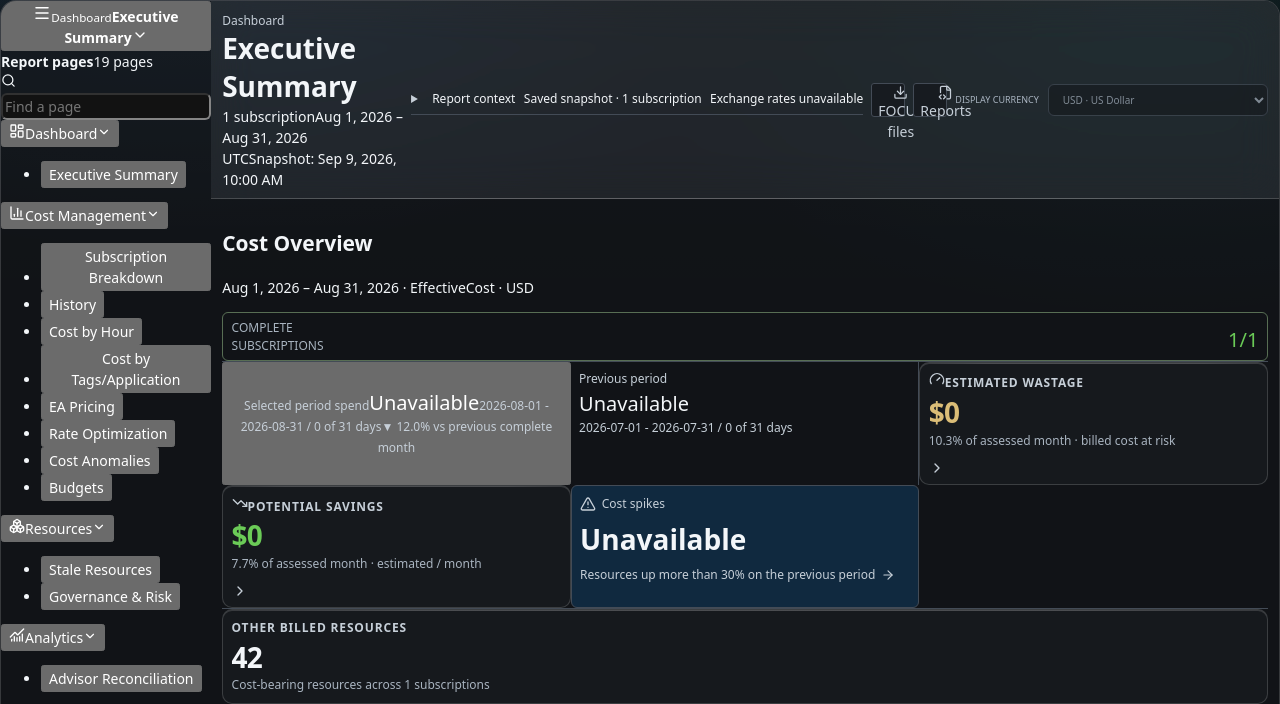
Test: navigates actionable cost overview cards and leaves informational cards static
The image size is (1280, 704).
Check: the button with aria-label "Open cost history" is shown, box [222,362,571,485]
Check: the button with aria-label "Open stale and orphaned resources" is shown, box [919,362,1268,485]
Click the button with aria-label "Open savings roadmap" at [316, 506], box [222,485,571,608]
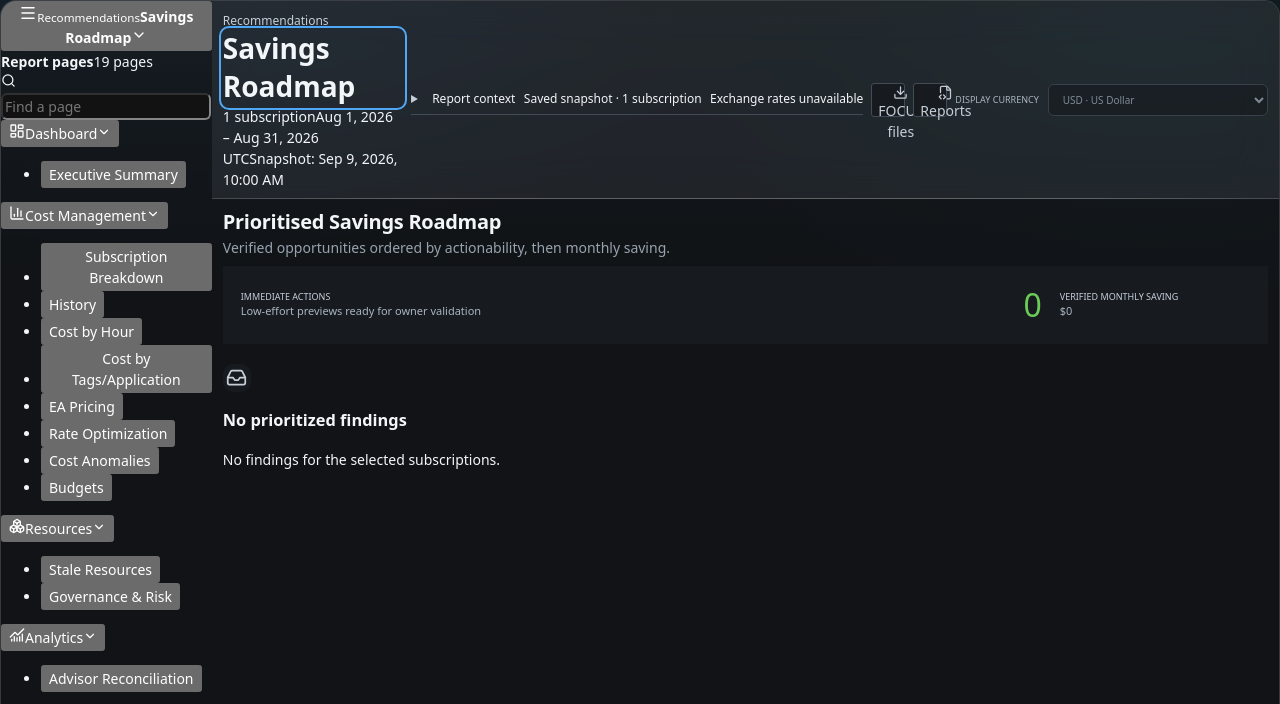
Check: the heading with id "report-page-heading" reads "Savings Roadmap", box [223,29,355,105]
